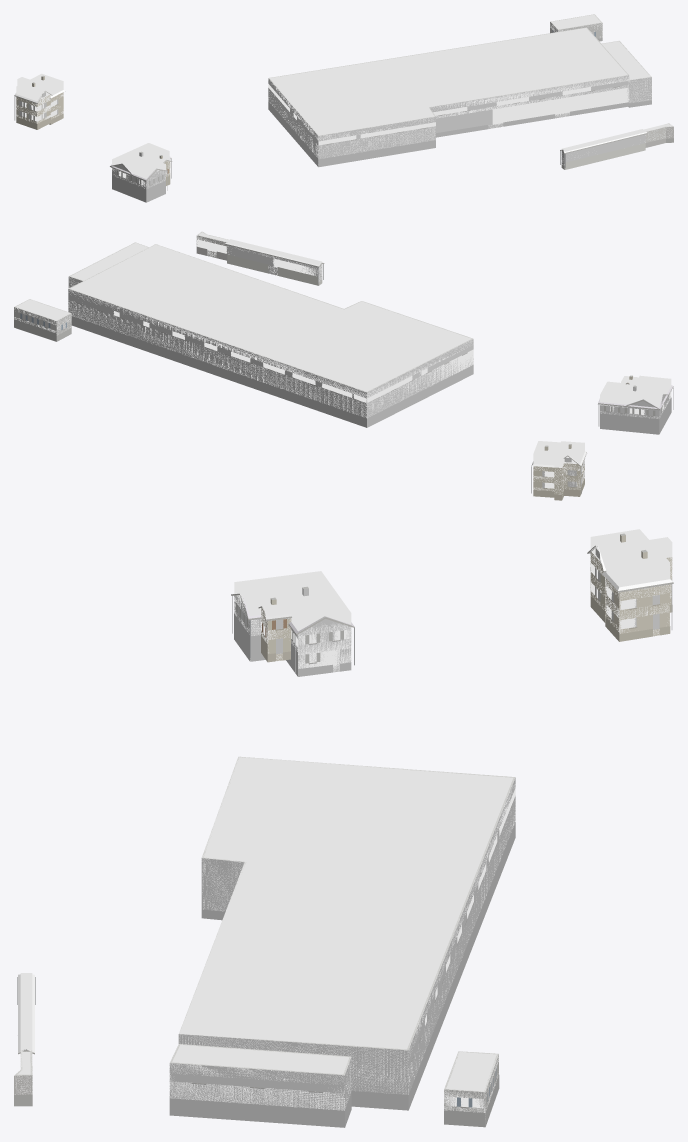
3 views of the same model, one above another, from view 1: azimuth 30°, elevation 25°; view 2: azimuth 150°, elevation 25°; view 3: azimuth 270°, elevation 25° (orthographic). The views are drawn at different scales.
Visible parts, largest first — view 1: col, bld; view 2: col, bld; view 3: col, bld.
Boxes of the visible parts, bbox=[...] form: col: bbox=[16, 15, 672, 188]; bld: bbox=[14, 14, 673, 202]; col: bbox=[14, 231, 671, 494]; bld: bbox=[14, 231, 673, 500]; col: bbox=[14, 529, 672, 1112]; bld: bbox=[14, 533, 673, 1127].
Size of the model in its own units: 156 by 17.63 by 85.55.
